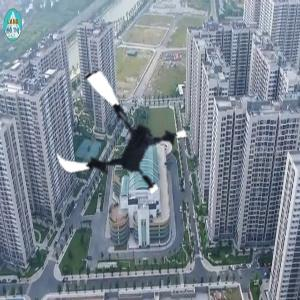drone: (52, 69, 186, 203)
